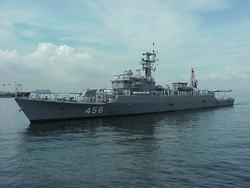warship: (11, 41, 237, 121)
